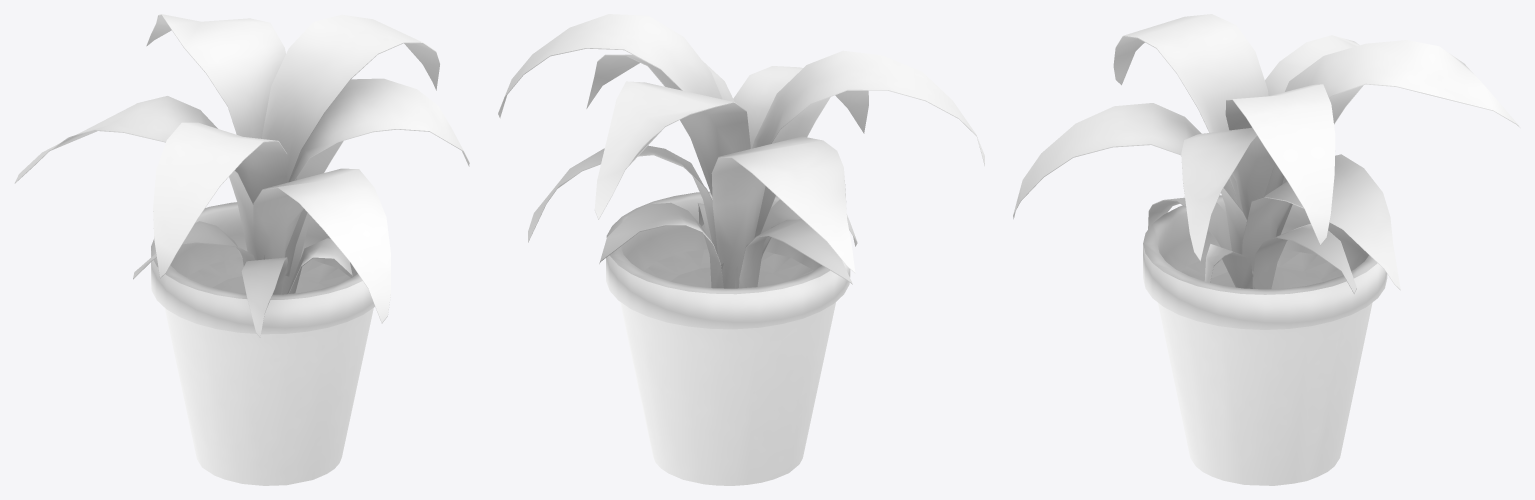
Rendered from House Plant With Pot.glb.
The picture shows the model from 3 angles, left to right: view 1: azimuth 30°, elevation 25°; view 2: azimuth 150°, elevation 25°; view 3: azimuth 270°, elevation 25°; orthographic projection. The views are drawn at different scales.
Parts seen in each view (by area): view 1: HousePlantWithPot.001, HousePlantWithPot, HousePlantWithPot.002; view 2: HousePlantWithPot.001, HousePlantWithPot, HousePlantWithPot.002; view 3: HousePlantWithPot.001, HousePlantWithPot, HousePlantWithPot.002.
Part boxes in pixels (x1=…): HousePlantWithPot.001: x1=14, y1=14, x2=469, y2=337; HousePlantWithPot: x1=151, y1=202, x2=374, y2=485; HousePlantWithPot.002: x1=186, y1=257, x2=350, y2=293; HousePlantWithPot.001: x1=498, y1=14, x2=984, y2=288; HousePlantWithPot: x1=606, y1=191, x2=850, y2=485; HousePlantWithPot.002: x1=643, y1=249, x2=813, y2=287; HousePlantWithPot.001: x1=1013, y1=14, x2=1520, y2=293; HousePlantWithPot: x1=1143, y1=195, x2=1387, y2=485; HousePlantWithPot.002: x1=1181, y1=249, x2=1342, y2=289.
Bounding box in the file's own units: 0.5856 × 0.5776 × 0.6533.
1 material, 1 textured.
